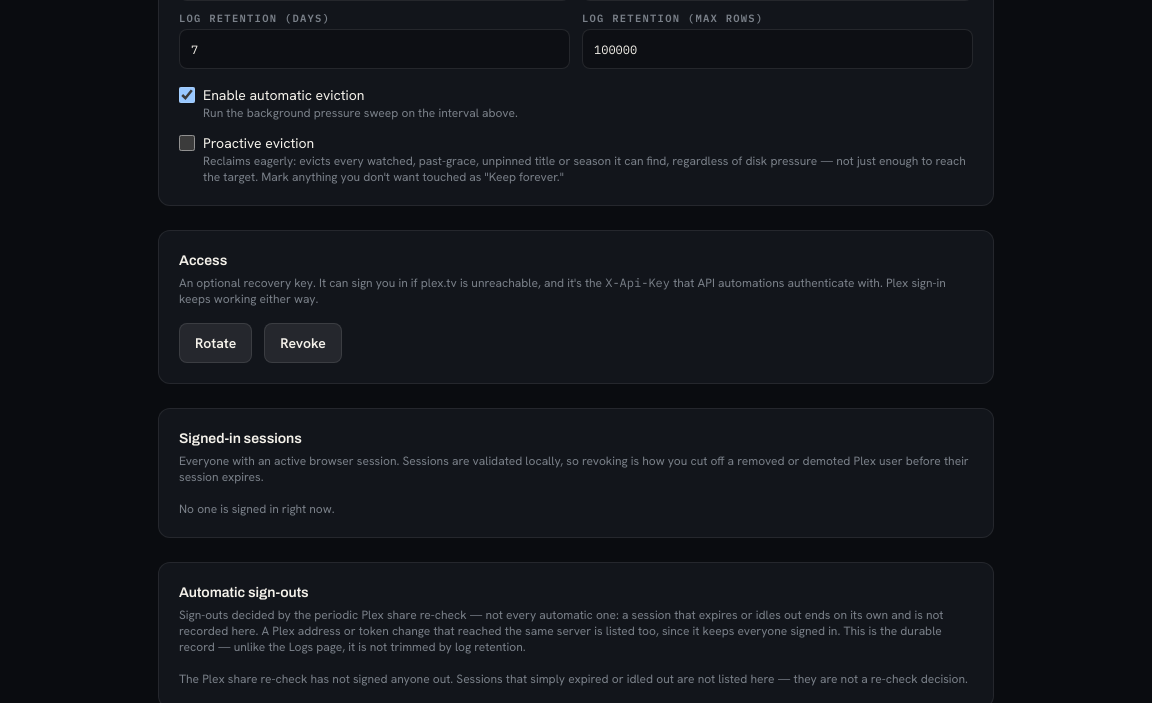
Test case: Settings — Access recovery key (opt-in, ADR-0016) › revokes behind an in-app confirm dialog (never window.confirm) and flips back to Generate
This screenshot has width=1152, height=703.
(page scrolled)
Click the button "Revoke".
click(303, 343)  # box [264,323,342,363]
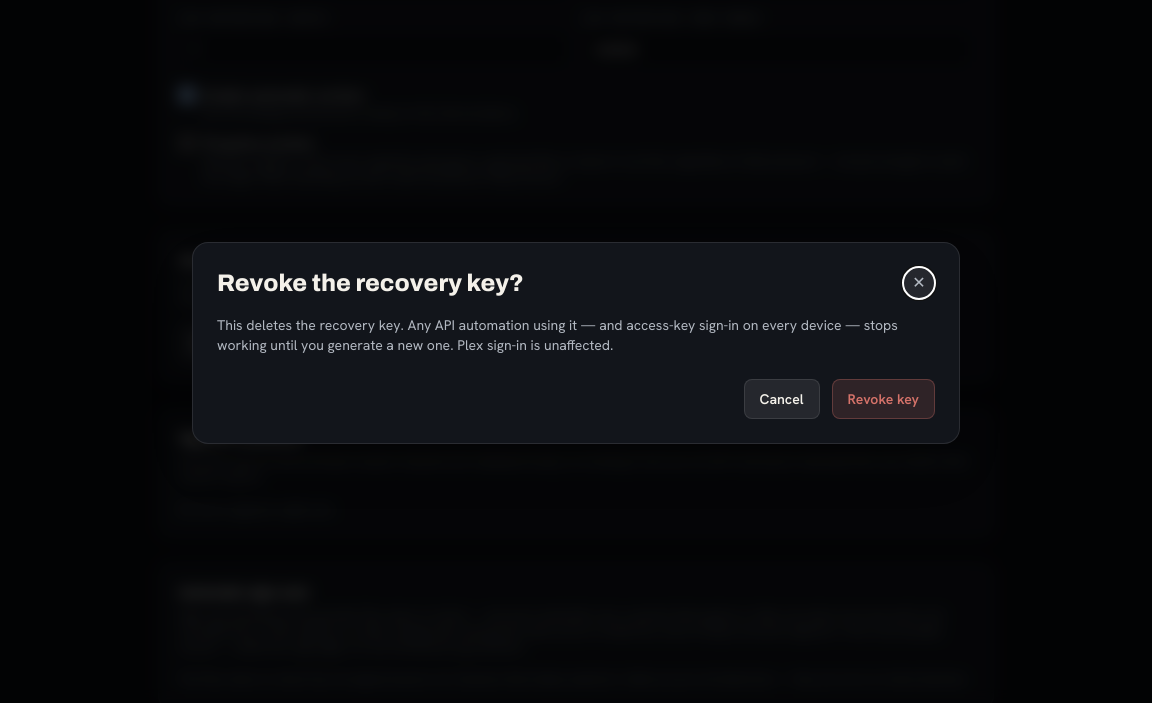
Expected: the heading "Revoke the recovery key?" is shown, [217,267,524,299]
Click the button "Revoke key".
click(883, 399)  # box [832,379,935,419]
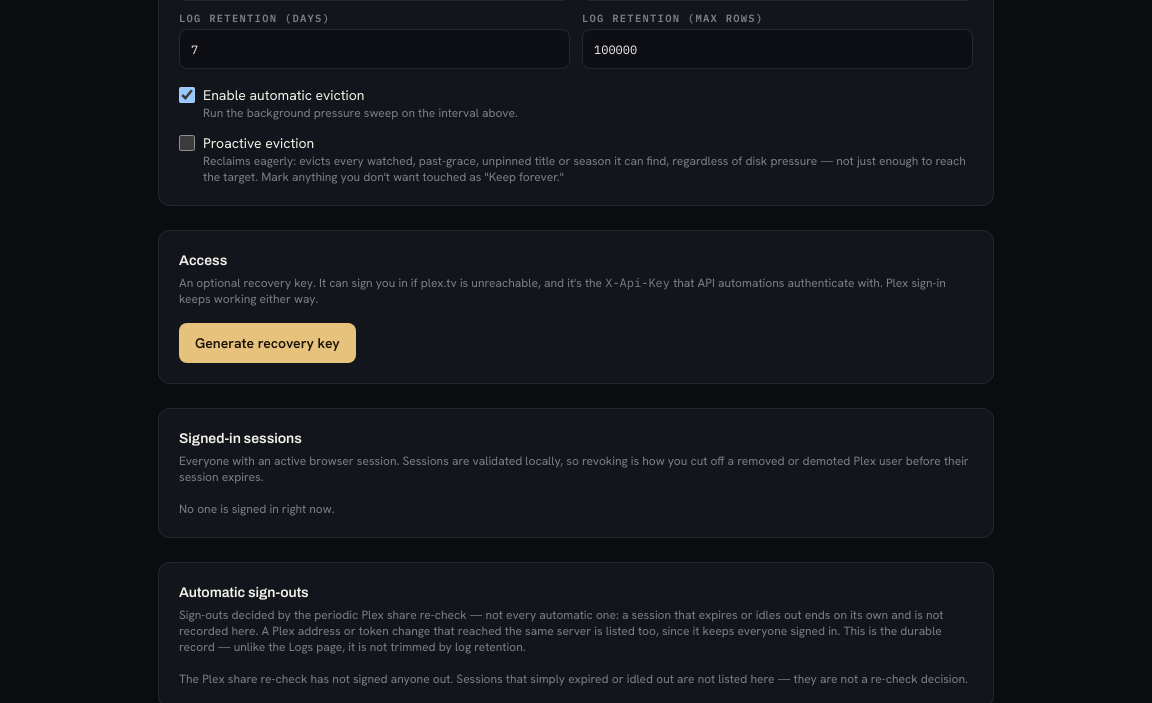
Expected: the button "Generate recovery key" is shown, [179,323,356,363]
Expected: the button "Revoke" is gone
